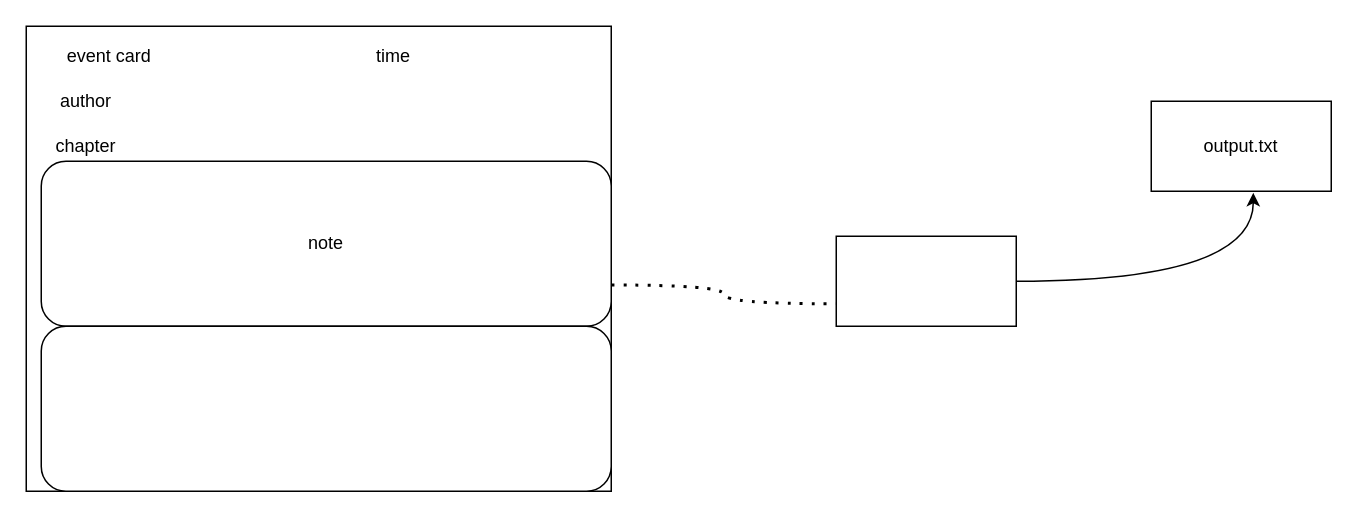
The diagram is 1358 pixels wide and 518 high, and some of its shapes have lost their labels. The centre of each missing label's shape, as x and y in pixels:
comment: (x=325, y=408)
id 001.txt: (x=925, y=280)
